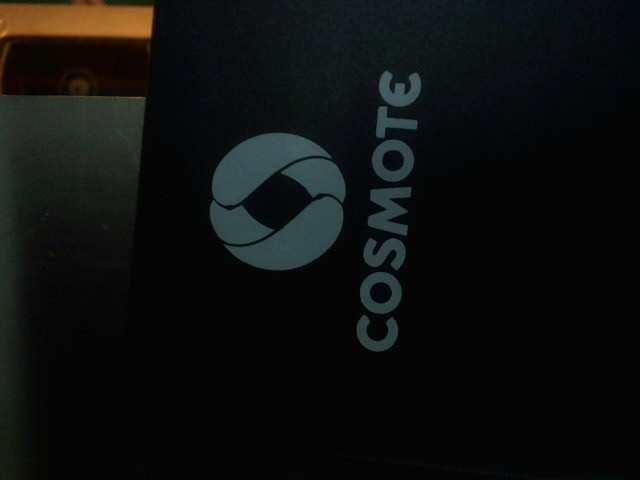AU_COSMOTE: (201, 59, 451, 361)
